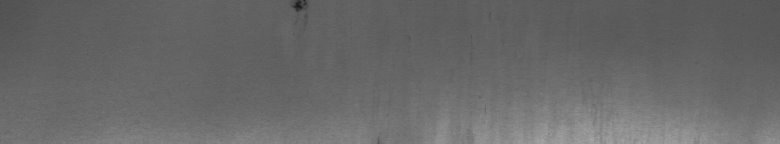fi: (288, 4, 308, 24)
